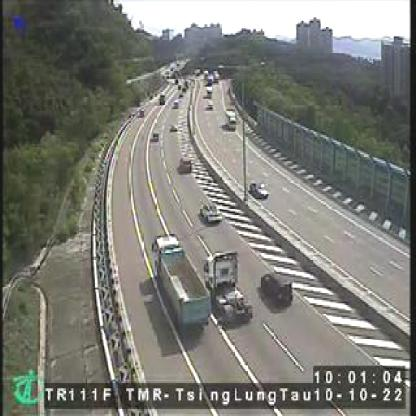Car: (258, 271, 295, 304), (198, 202, 221, 224), (251, 178, 270, 198), (178, 154, 192, 174), (150, 131, 160, 142), (173, 97, 182, 108), (207, 100, 214, 109)
Truck: (152, 237, 210, 333), (205, 247, 251, 318), (226, 111, 236, 128)
